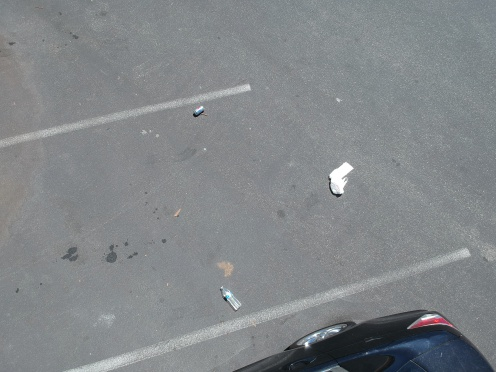bottle: (214, 282, 245, 312)
can: (188, 104, 208, 116)
plastic bag: (321, 158, 355, 199)
